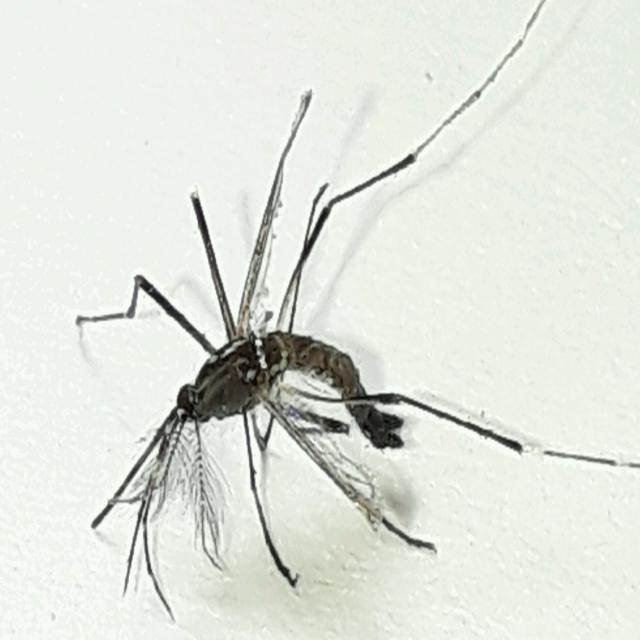aegypti: (66, 39, 524, 617)
